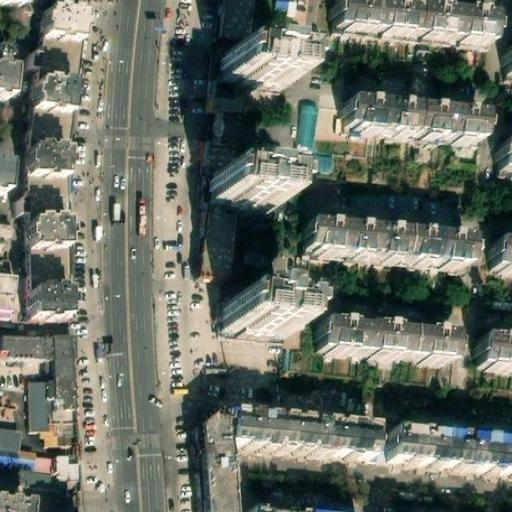building: (325, 0, 494, 48), (303, 225, 471, 271), (232, 416, 379, 460), (315, 323, 458, 364), (344, 101, 481, 142), (199, 141, 241, 273), (390, 430, 512, 472), (24, 236, 69, 311), (203, 414, 236, 512), (223, 298, 294, 335), (24, 165, 64, 227), (26, 98, 68, 156), (207, 177, 278, 211), (0, 431, 54, 474), (48, 336, 78, 410), (218, 56, 284, 87), (27, 76, 72, 113), (36, 4, 81, 41), (20, 143, 65, 179), (19, 214, 64, 250), (22, 284, 66, 320), (245, 500, 357, 512), (477, 337, 512, 370), (5, 335, 53, 359), (42, 410, 71, 448), (293, 102, 315, 149), (0, 382, 23, 425), (27, 380, 48, 427), (46, 0, 83, 18), (492, 241, 512, 274), (53, 459, 78, 485), (0, 67, 15, 101), (0, 157, 13, 192), (0, 224, 11, 256)
